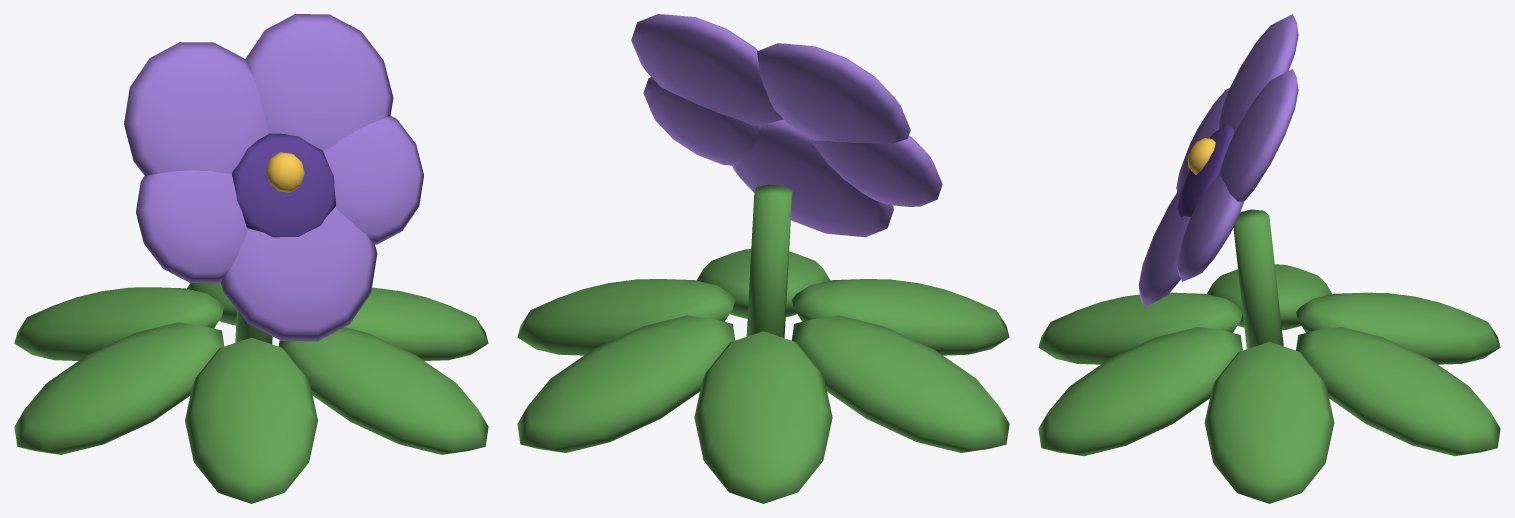
File: flower-pansy.glb
3 renders of one model, left to right at view 1: azimuth 30°, elevation 25°; view 2: azimuth 150°, elevation 25°; view 3: azimuth 270°, elevation 25°, orthographic. The views are drawn at different scales.
Visible parts, largest first — view 1: flower; view 2: flower; view 3: flower.
Boxes of the visible parts, x1,y1,x2,y2 form: flower: [14, 14, 488, 503]; flower: [517, 14, 1009, 503]; flower: [1038, 14, 1500, 503].
Bounding box in the file's own units: 0.2842 × 0.2087 × 0.2492.
